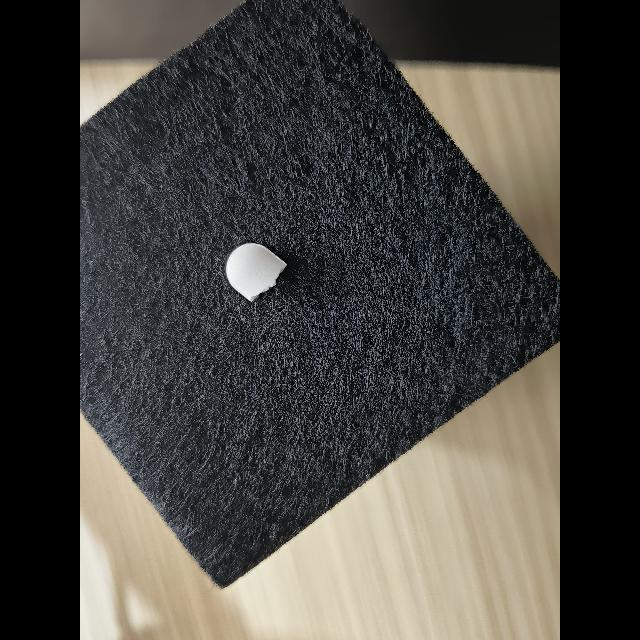Chipped Pill: (226, 243, 287, 302)
